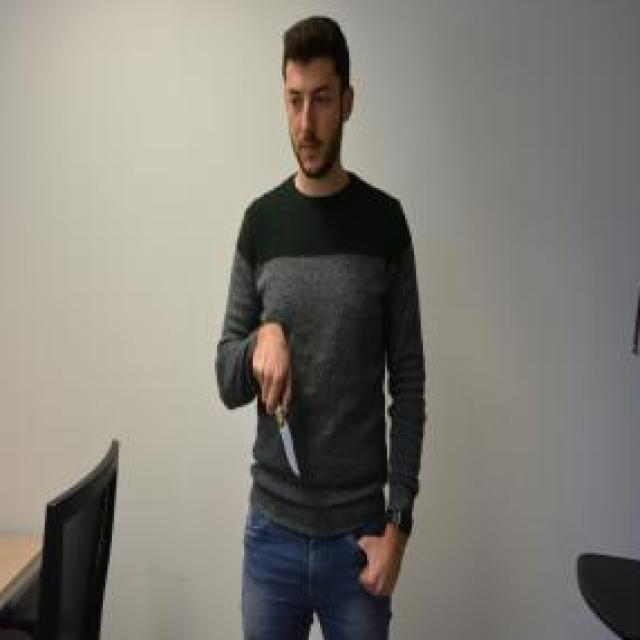knife: (257, 378, 301, 484)
